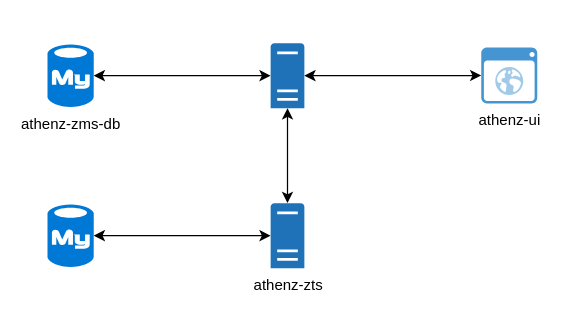
The diagram is 561 pixels wide and 315 high, and some of its shapes have lost their labels. The shapes that lost their labels are listed below. From the top down, each one's box as (x1, y1, x2, y2) in pixels, then its label:
(270, 42, 304, 108): athenz-zms
(47, 204, 93, 266): athenz-zts-db
